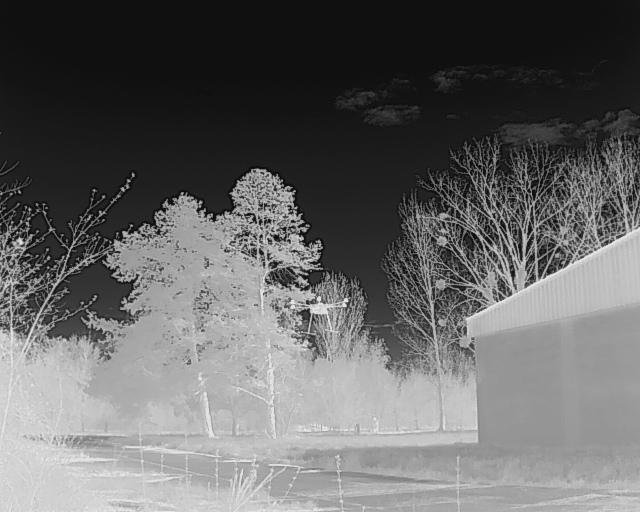drone: (286, 284, 352, 340)
